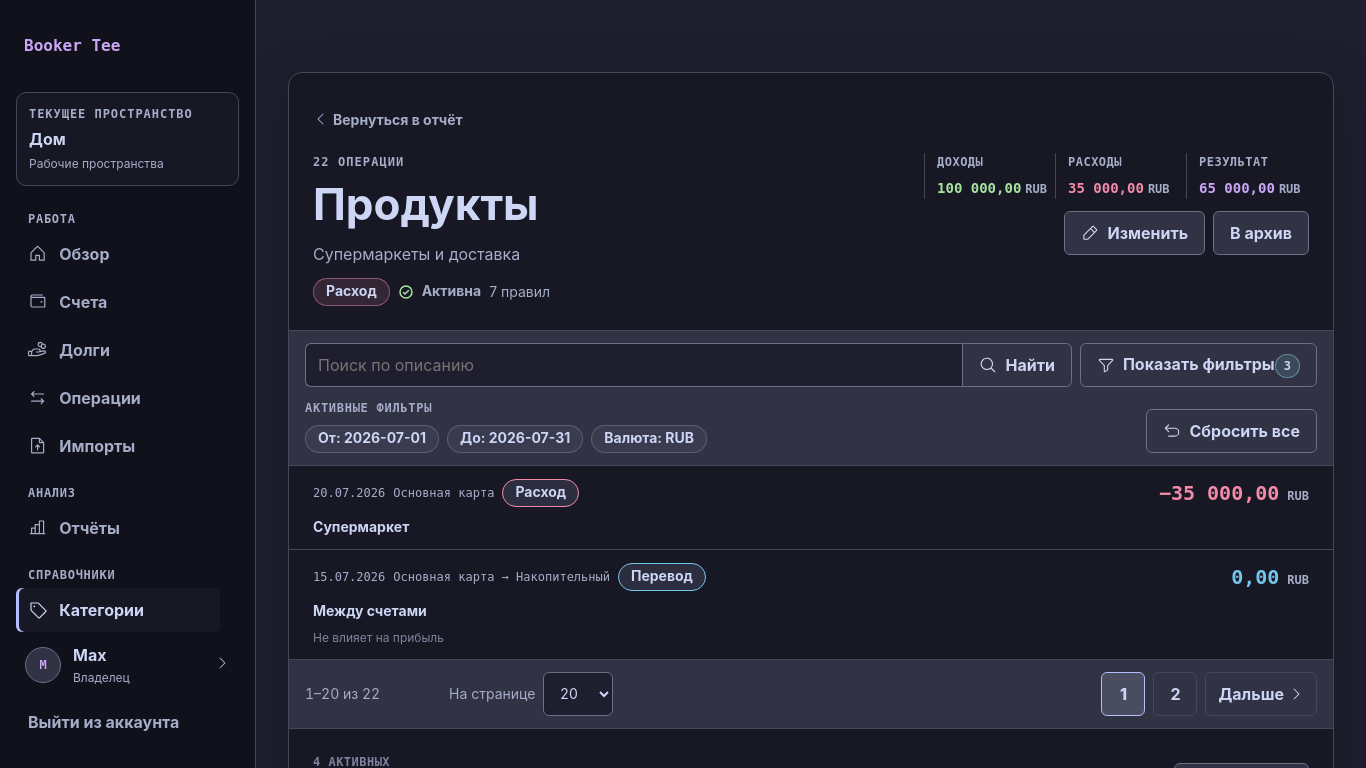
Test: CategoryDetailPage › searches operations without dropping filters or report context
Type "  market  " into the search field named "Поиск по описанию операции" at [634, 365], box [305,343,962,387]
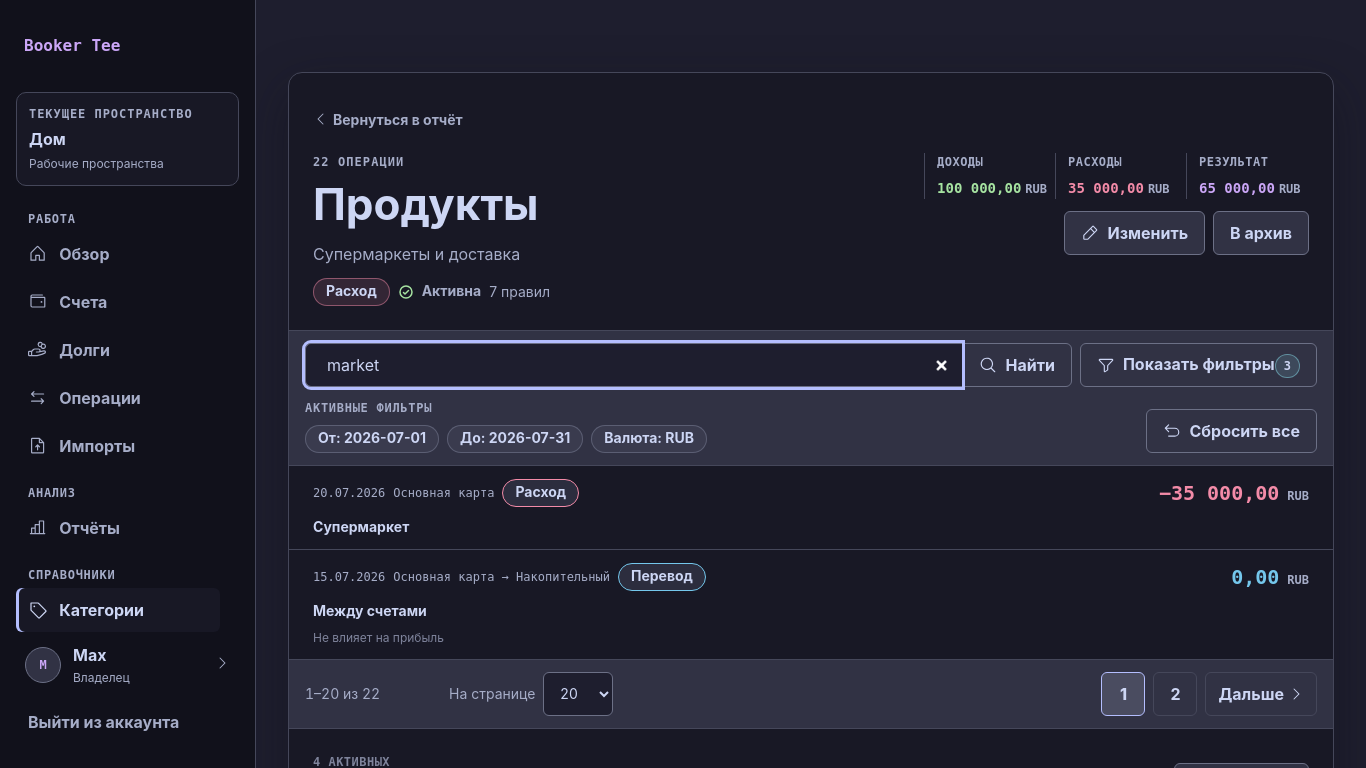
Click the button "Найти" at [1017, 365], box [962,343,1072,387]
(page scrolled)
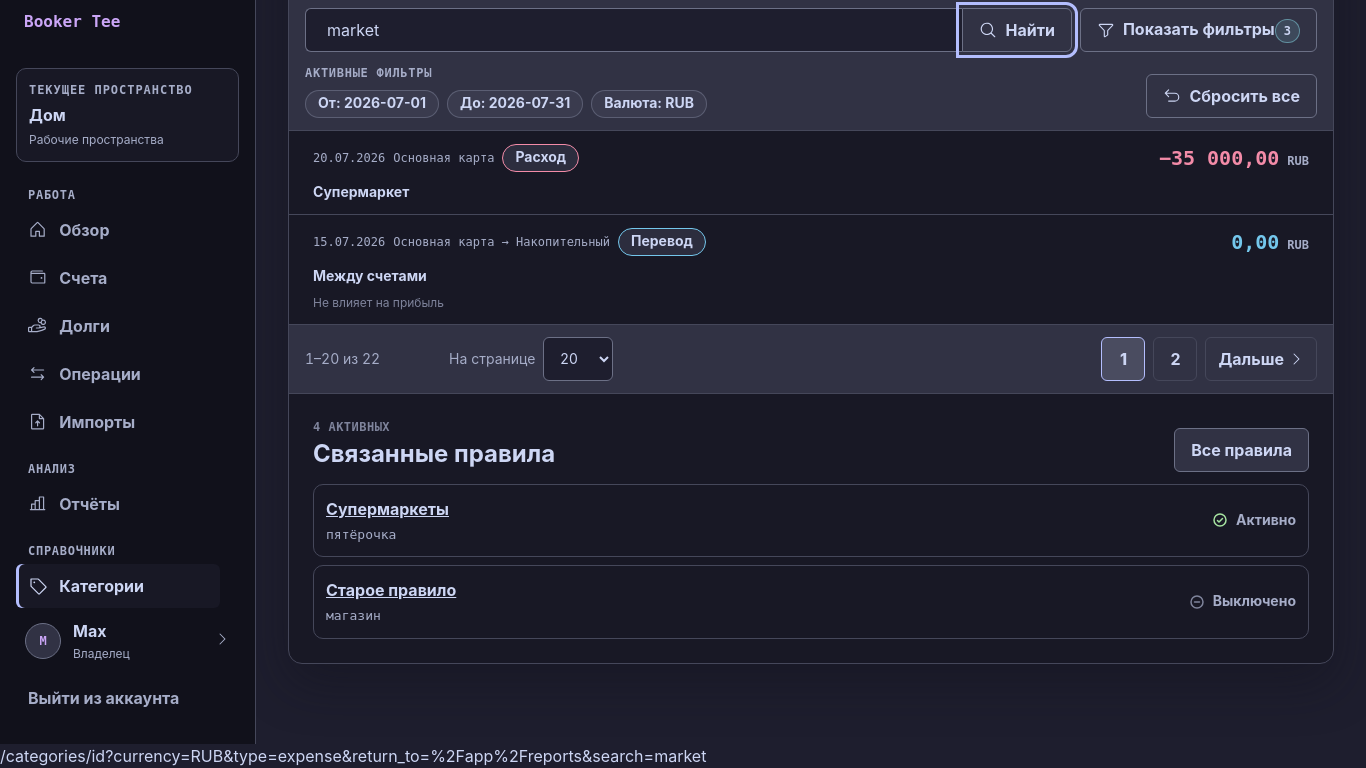
Expected: the text with test id "location" shows "currency=RUB", [105,746,706,766]
Expected: the text with test id "location" shows "search=market", [105,746,706,766]
